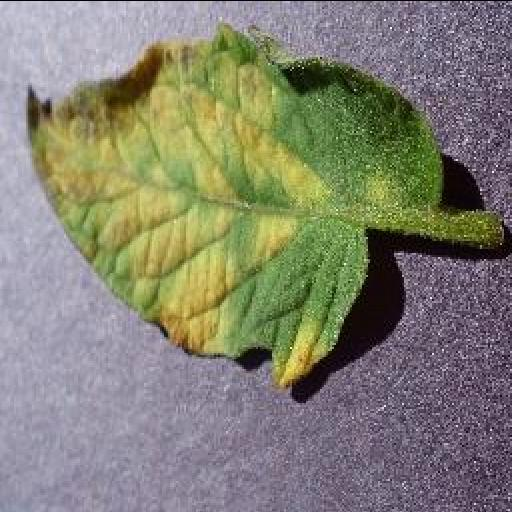disease_tomato: (26, 21, 446, 385)
